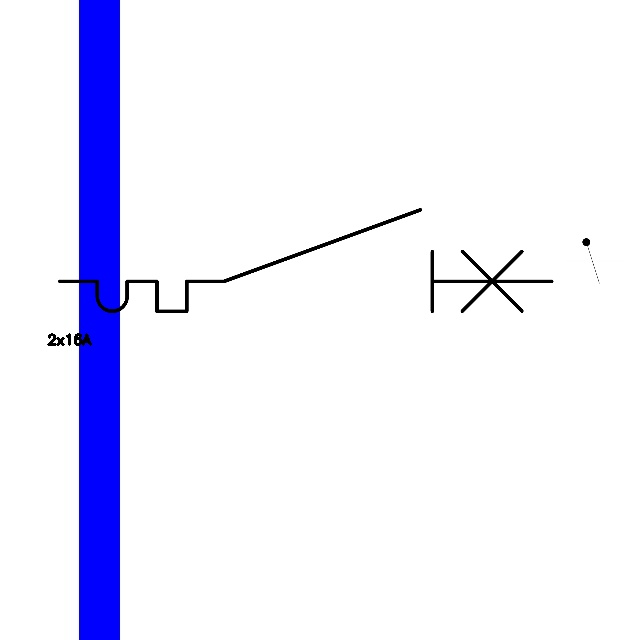interruptor_termomagnetico: (47, 197, 565, 324)
